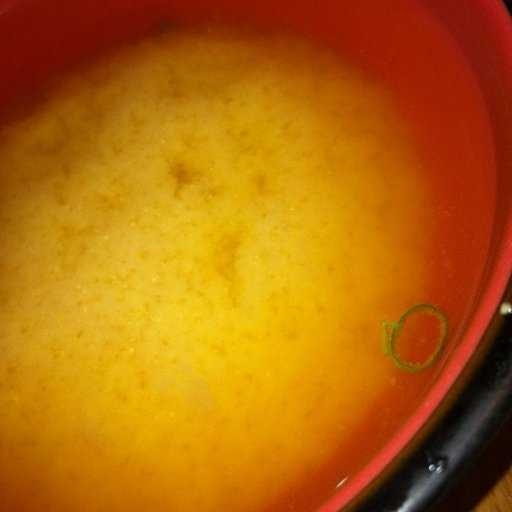soup: (1, 1, 481, 508)
